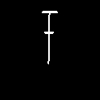double_crochet: (42, 11, 57, 63)
